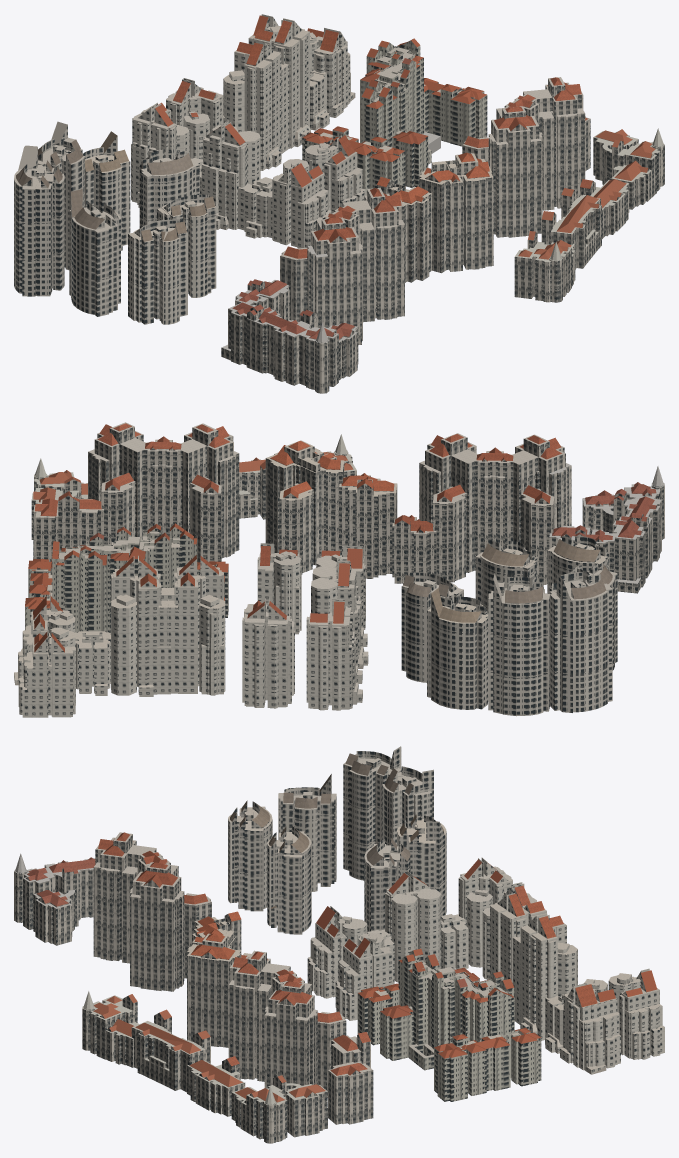
3 views of the same model, one above another, from view 1: azimuth 30°, elevation 25°; view 2: azimuth 150°, elevation 25°; view 3: azimuth 270°, elevation 25° (orthographic). The views are drawn at different scales.
Parts seen in each view (by area): view 1: Tanjong Rhu residential neighbourhoods; view 2: Tanjong Rhu residential neighbourhoods; view 3: Tanjong Rhu residential neighbourhoods.
Boxes of the visible parts, <box> form: Tanjong Rhu residential neighbourhoods: <box>14,14,664,393</box>; Tanjong Rhu residential neighbourhoods: <box>14,422,664,717</box>; Tanjong Rhu residential neighbourhoods: <box>14,746,664,1143</box>.
Bounding box in the file's own units: 383 × 78.52 × 370.
Materials: 10 (10 with a texture image).
